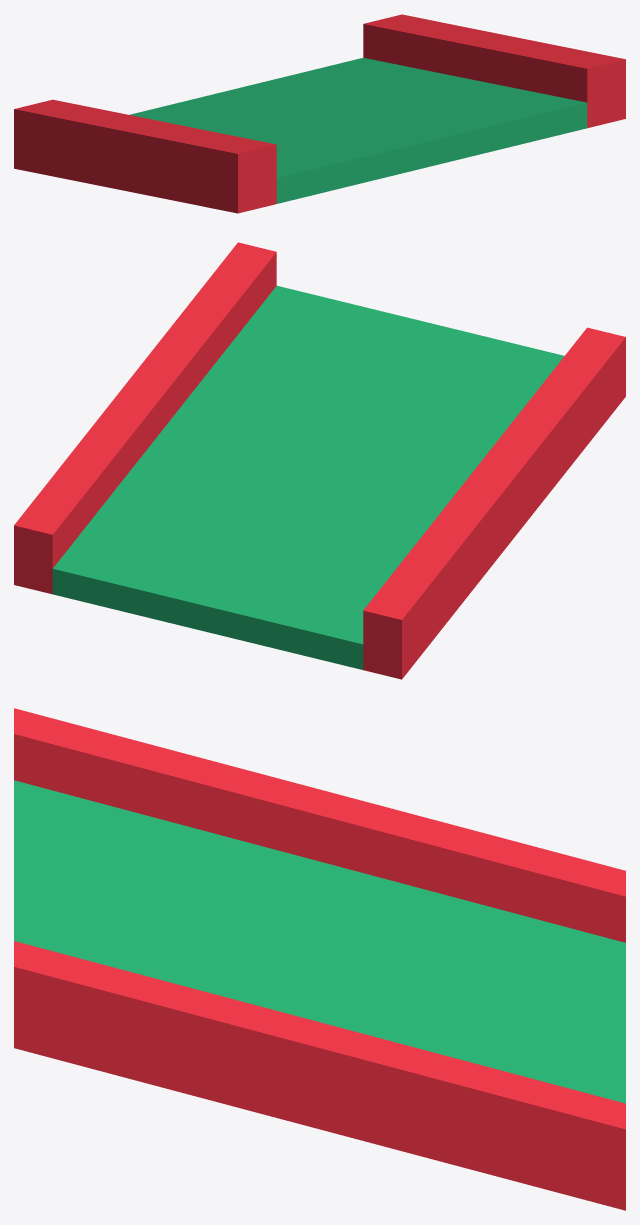
The model's file is rampB.fbx.
The picture shows the model from 3 angles, top to bottom: view 1: azimuth 30°, elevation 25°; view 2: azimuth 150°, elevation 25°; view 3: azimuth 270°, elevation 25°; orthographic projection. The views are drawn at different scales.
Parts seen in each view (by area): view 1: rampB; view 2: rampB; view 3: rampB.
Part boxes in pixels (bbox=[...]): rampB: bbox=[14, 14, 625, 213]; rampB: bbox=[14, 242, 625, 679]; rampB: bbox=[14, 708, 625, 1210].
Bounding box in the file's own units: 10 × 4.4 × 10.
